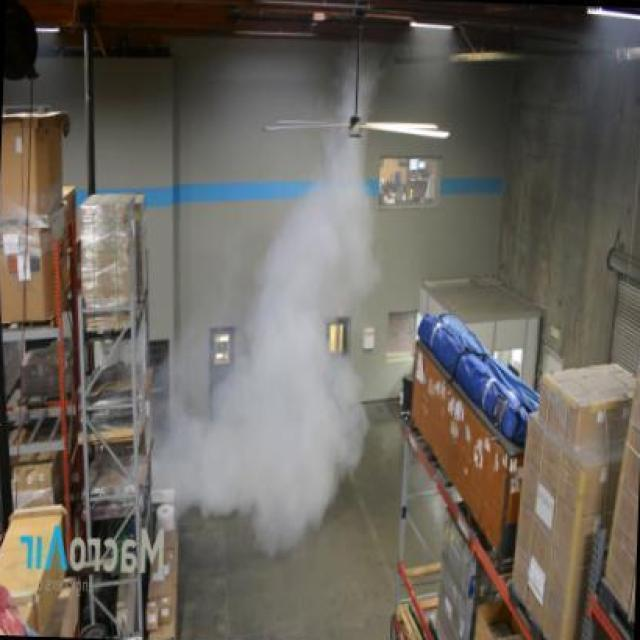fire: (178, 162, 387, 560)
